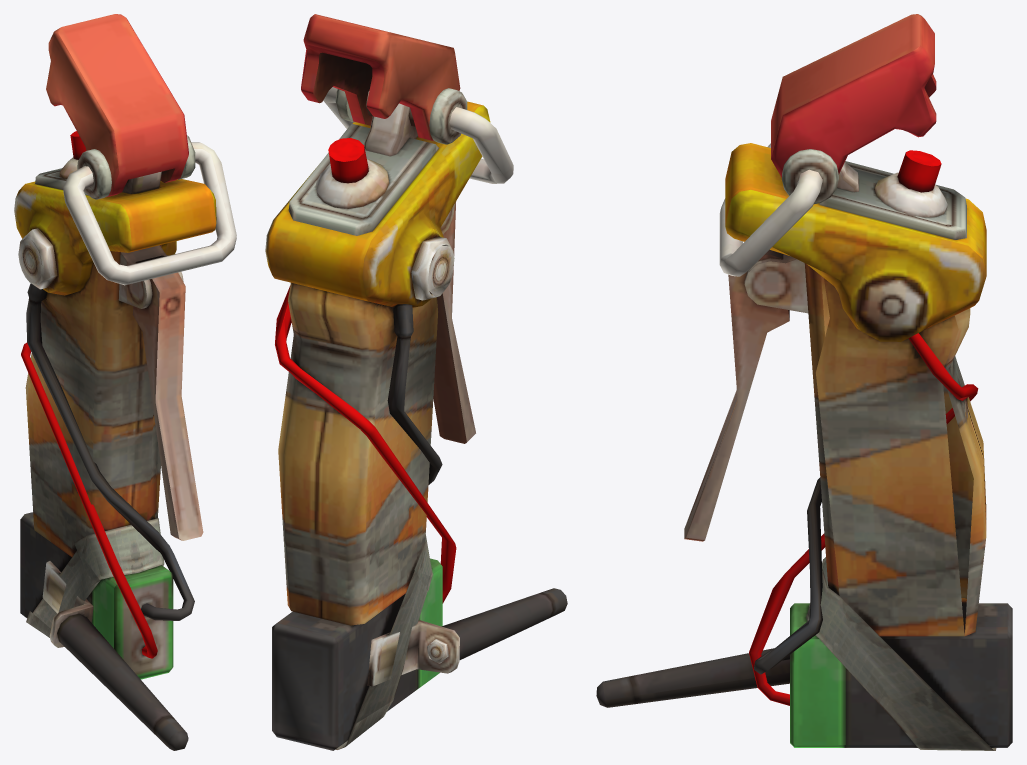
File: junkrat_trigger.obj
The picture shows the model from 3 angles, left to right: view 1: azimuth 30°, elevation 25°; view 2: azimuth 150°, elevation 25°; view 3: azimuth 270°, elevation 25°; orthographic projection. The views are drawn at different scales.
Parts seen in each view (by area): view 1: submesh; view 2: submesh; view 3: submesh.
Boxes of the visible parts, x1,y1,x2,y2 form: submesh: (14, 14, 236, 750); submesh: (265, 14, 567, 750); submesh: (596, 14, 1012, 750).
Size of the model in its own units: 0.0697 by 0.265 by 0.1411.
